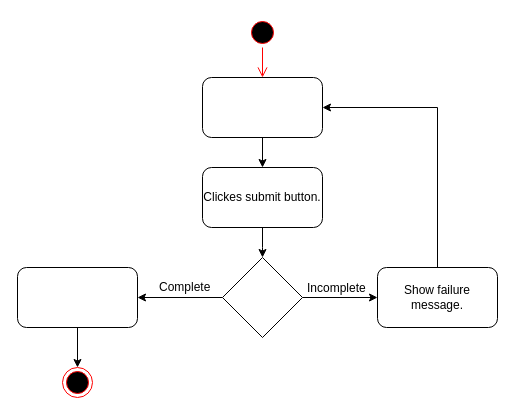
The diagram is 515 pixels wide and 415 high, and some of its shapes have lost their labels. The centre of each missing label's shape, as x and y in pixels:
"Fill in the form of information like name, major, interests, etc." belongs at [262,107].
"Show success message." belongs at [77,297].
